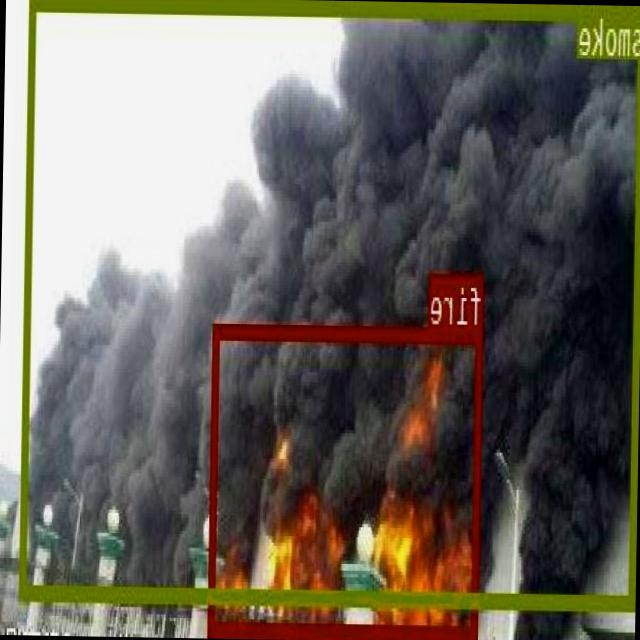fire: (210, 322, 483, 636)
smoke: (21, 0, 640, 605)
